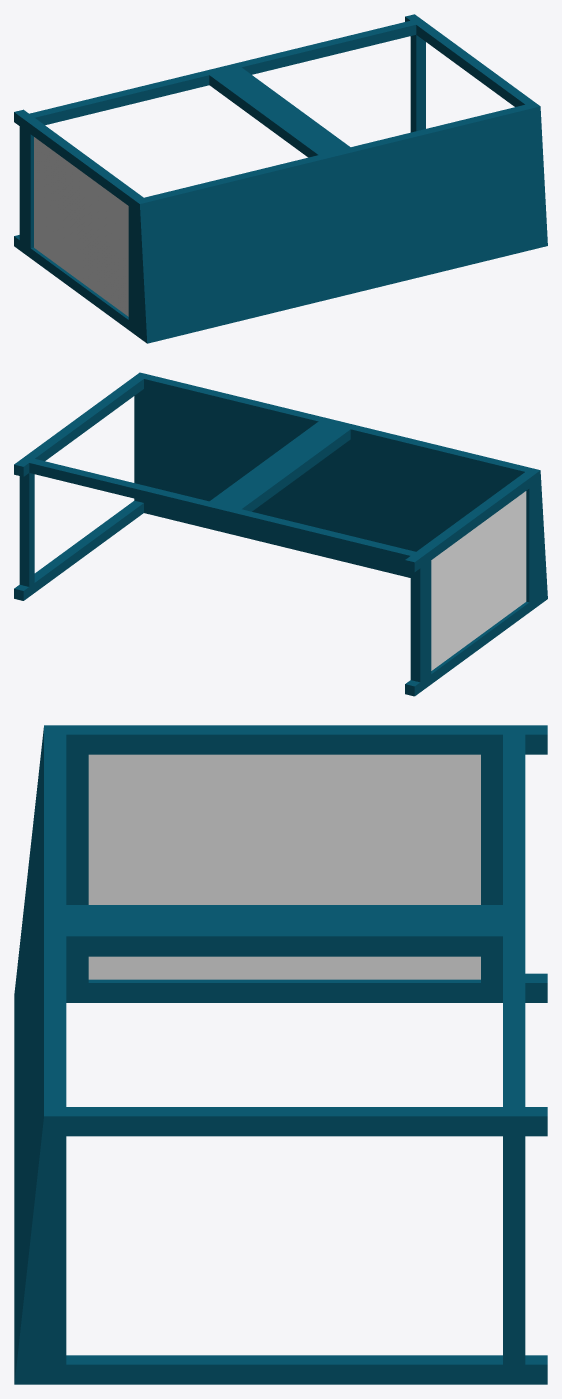
Rendered from bus_stop.dae.
The picture shows the model from 3 angles, top to bottom: view 1: azimuth 30°, elevation 25°; view 2: azimuth 150°, elevation 25°; view 3: azimuth 270°, elevation 25°; orthographic projection. The views are drawn at different scales.
Visible parts, largest first — view 1: coords_ME_ID3_MA_material_21, coords_ME_ID37_MA_Color_000, coords_ME_ID17_MA_material_21; view 2: coords_ME_ID3_MA_material_21, coords_ME_ID37_MA_Color_000, coords_ME_ID17_MA_material_21; view 3: coords_ME_ID3_MA_material_21, coords_ME_ID31_MA_Color_000, coords_ME_ID11_MA_material_21.
Part boxes in pixels (x1,y1,x2,y2): coords_ME_ID3_MA_material_21: (14,14,547,343); coords_ME_ID37_MA_Color_000: (34,137,128,316); coords_ME_ID17_MA_material_21: (30,134,128,319); coords_ME_ID3_MA_material_21: (14,372,547,696); coords_ME_ID37_MA_Color_000: (431,491,526,670); coords_ME_ID17_MA_material_21: (431,489,529,673); coords_ME_ID3_MA_material_21: (14,725,547,1384); coords_ME_ID31_MA_Color_000: (88,754,480,979); coords_ME_ID11_MA_material_21: (88,979,480,982).
Bounding box in the file's own units: 55.12 × 17.64 × 31.75.
